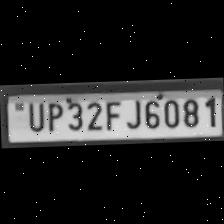0: (160, 94, 180, 128)
1: (200, 94, 220, 128)
2: (83, 96, 103, 130)
3: (63, 97, 83, 130)
6: (141, 94, 161, 128)
8: (178, 94, 200, 128)
F: (100, 96, 119, 130)
J: (121, 96, 141, 130)
P: (42, 97, 64, 130)
U: (22, 98, 44, 132)
